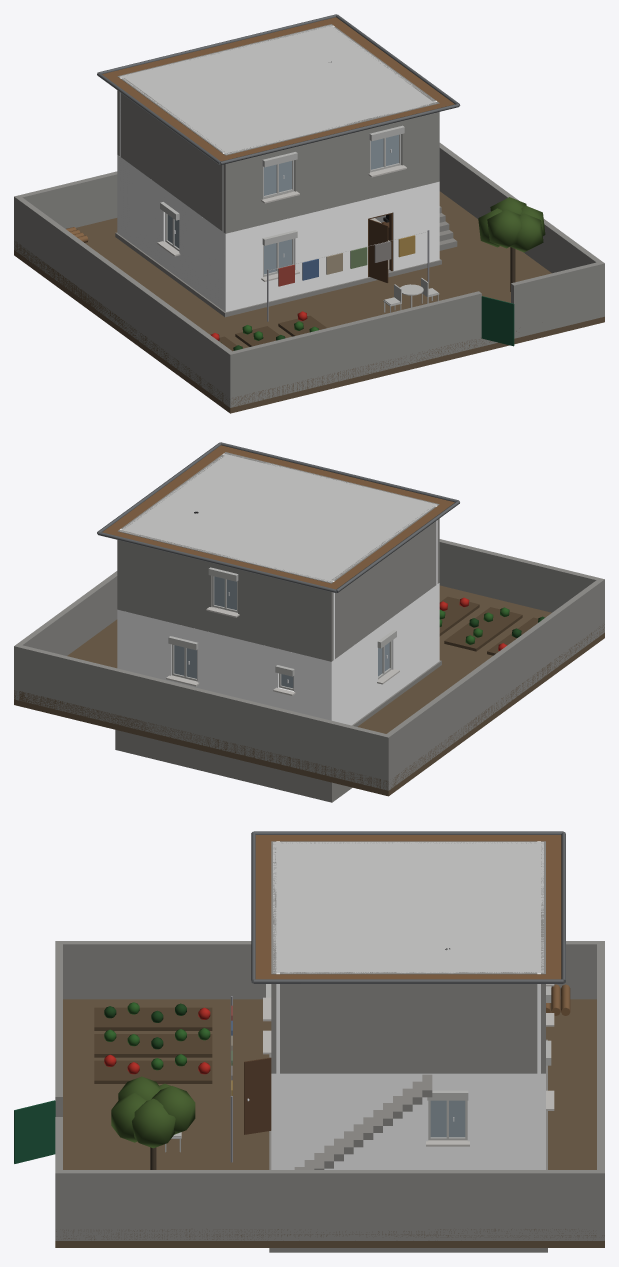
Rendered from bina_11_ic.glb.
3 views of the same model, one above another, from view 1: azimuth 30°, elevation 25°; view 2: azimuth 150°, elevation 25°; view 3: azimuth 270°, elevation 25° (orthographic). The views are drawn at different scales.
Parts seen in each view (by area): view 1: P11_ic; view 2: P11_ic; view 3: P11_ic.
Part boxes in pixels (<box>): P11_ic: <box>14,14,604,413</box>; P11_ic: <box>14,442,604,802</box>; P11_ic: <box>14,831,604,1252</box>.
Size of the model in its own units: 14 by 7.86 by 15.05.
